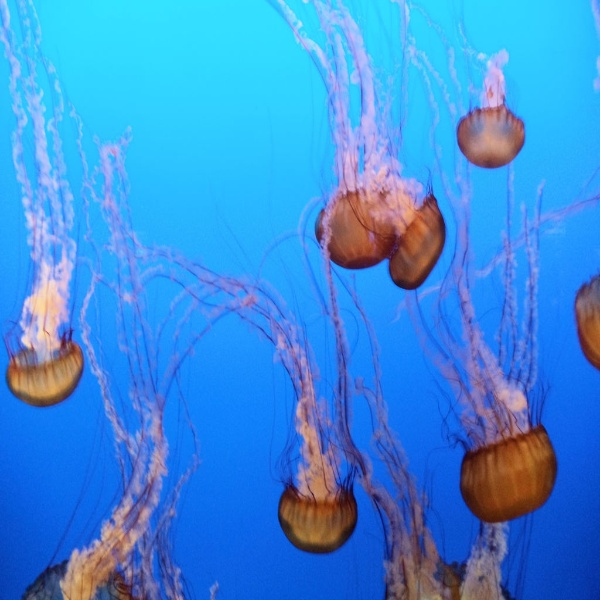Jellyfish: (21, 138, 205, 599), (306, 216, 512, 599), (114, 233, 360, 552), (398, 76, 557, 526), (326, 0, 445, 294), (0, 0, 86, 405), (266, 0, 394, 269), (422, 0, 524, 171), (574, 269, 599, 370)
